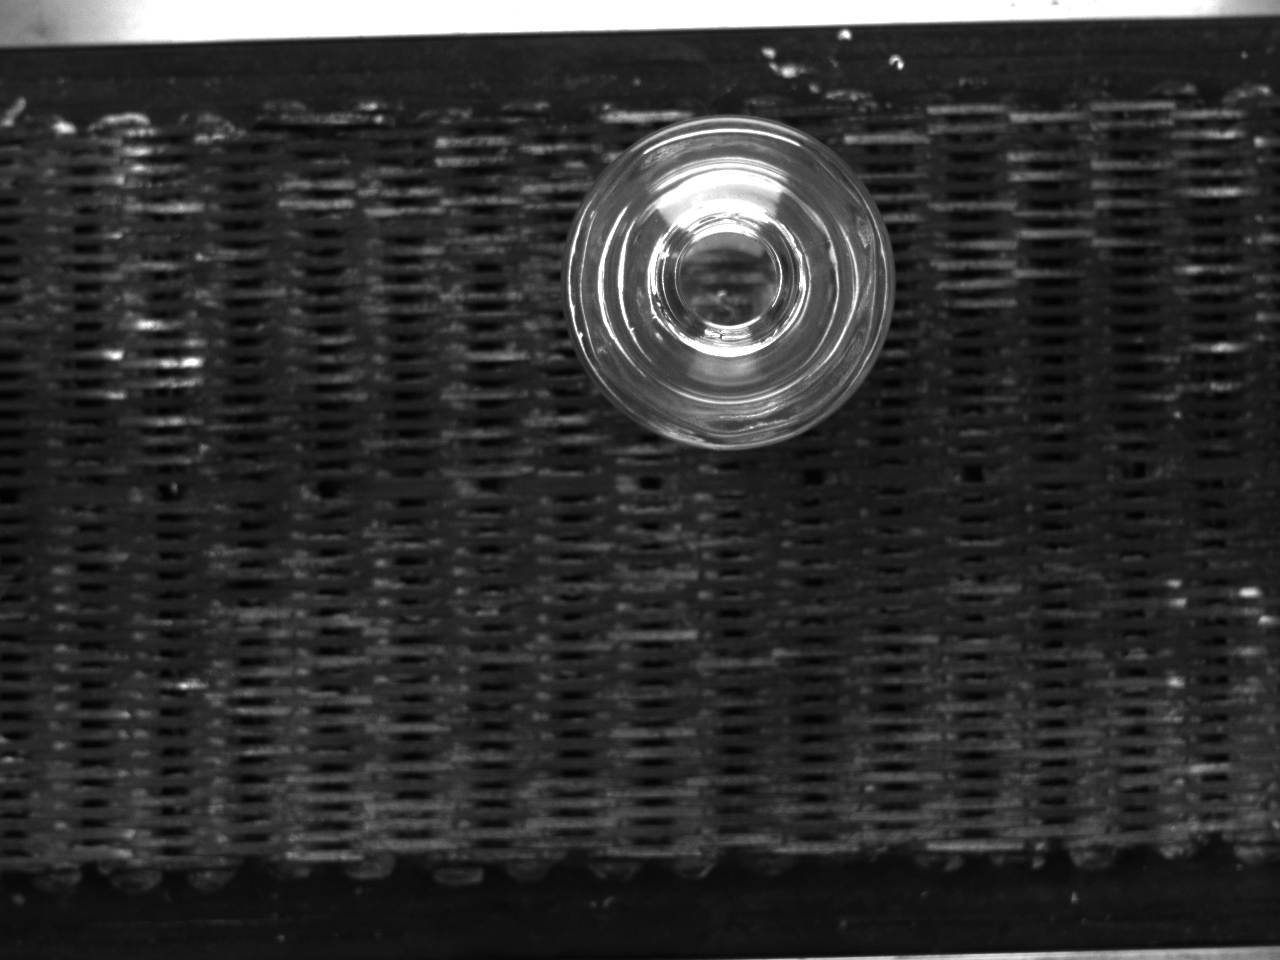bottleneck: (647, 201, 812, 354)
